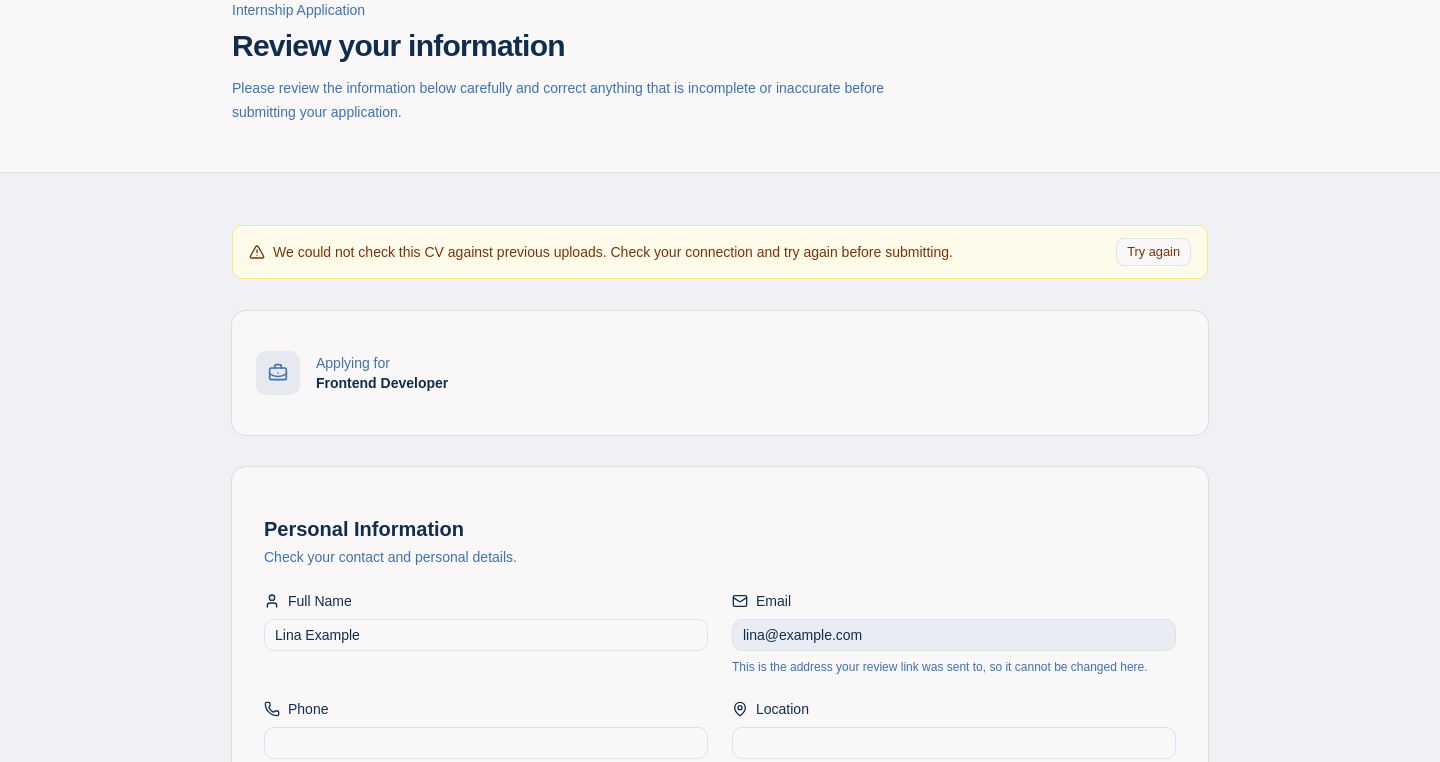
Test: ApplicationReview: CV check before the final submission › does not treat a failed check as clear: submitting waits for a successful re-check
Expected: the message shows "could not check this CV against previous uploads", [273,244,953,260]
Click the button "Try again": click(1154, 252) [1116,238,1191,266]
(page scrolled)
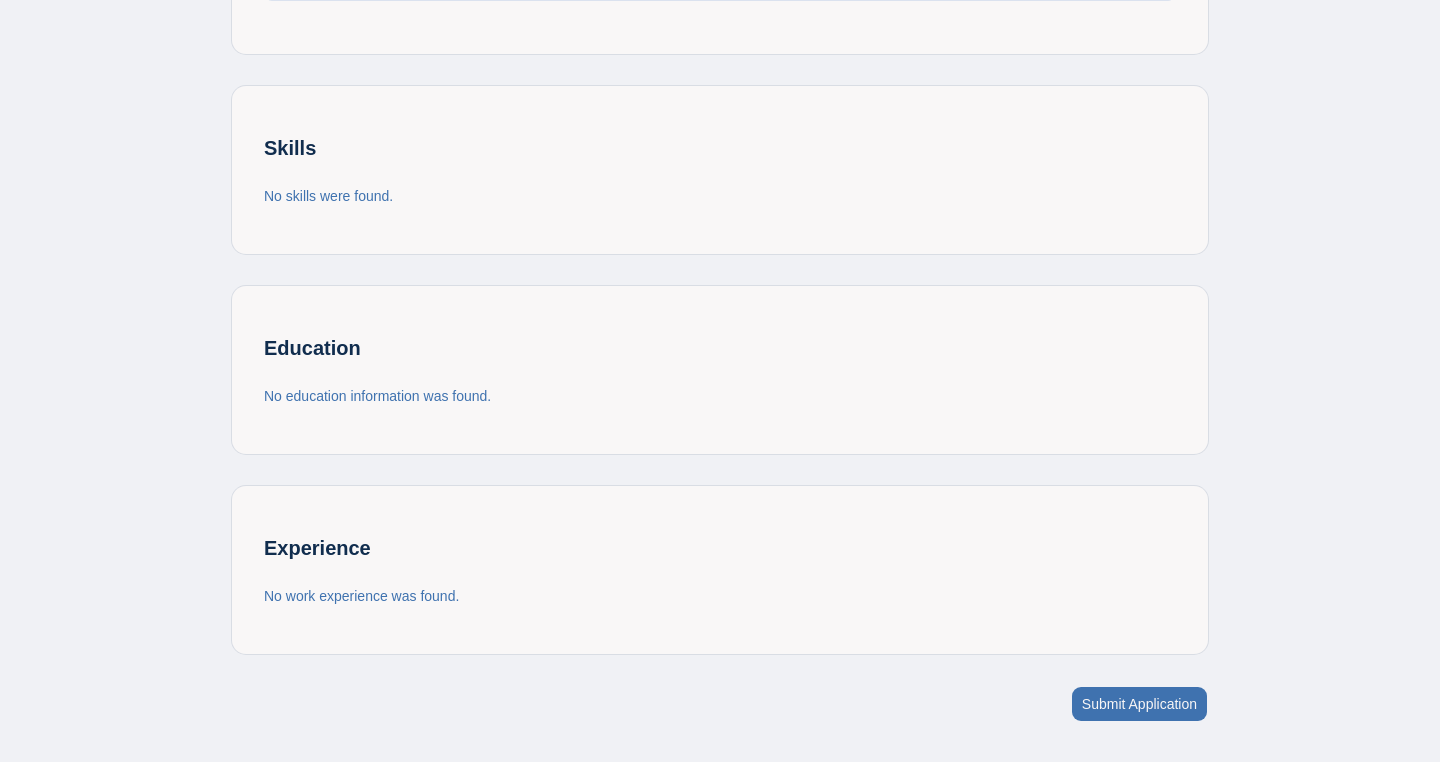
Result: the button "Submit Application" is enabled at [1071,686,1208,722]
